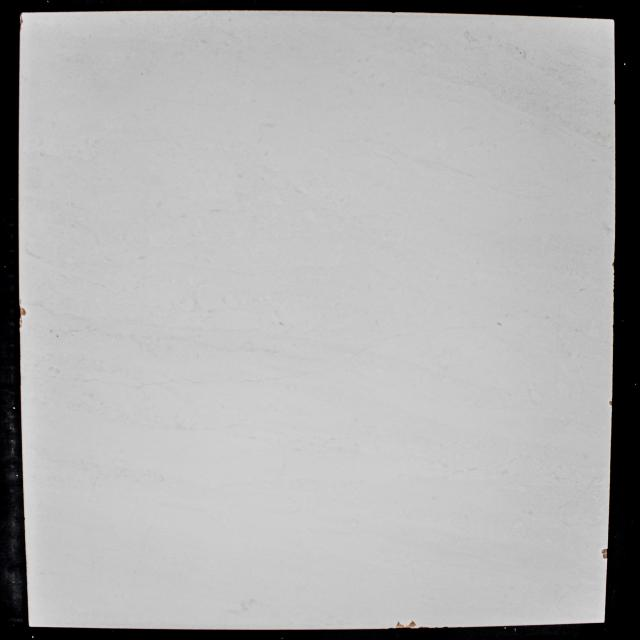edge-chipping: (406, 620, 417, 629), (394, 621, 405, 629), (20, 12, 24, 32), (601, 548, 608, 559), (19, 306, 26, 316), (18, 317, 22, 329), (418, 626, 430, 629), (609, 400, 612, 406), (612, 261, 615, 267), (442, 626, 449, 628), (613, 288, 614, 293), (614, 100, 615, 105), (435, 627, 439, 628)
